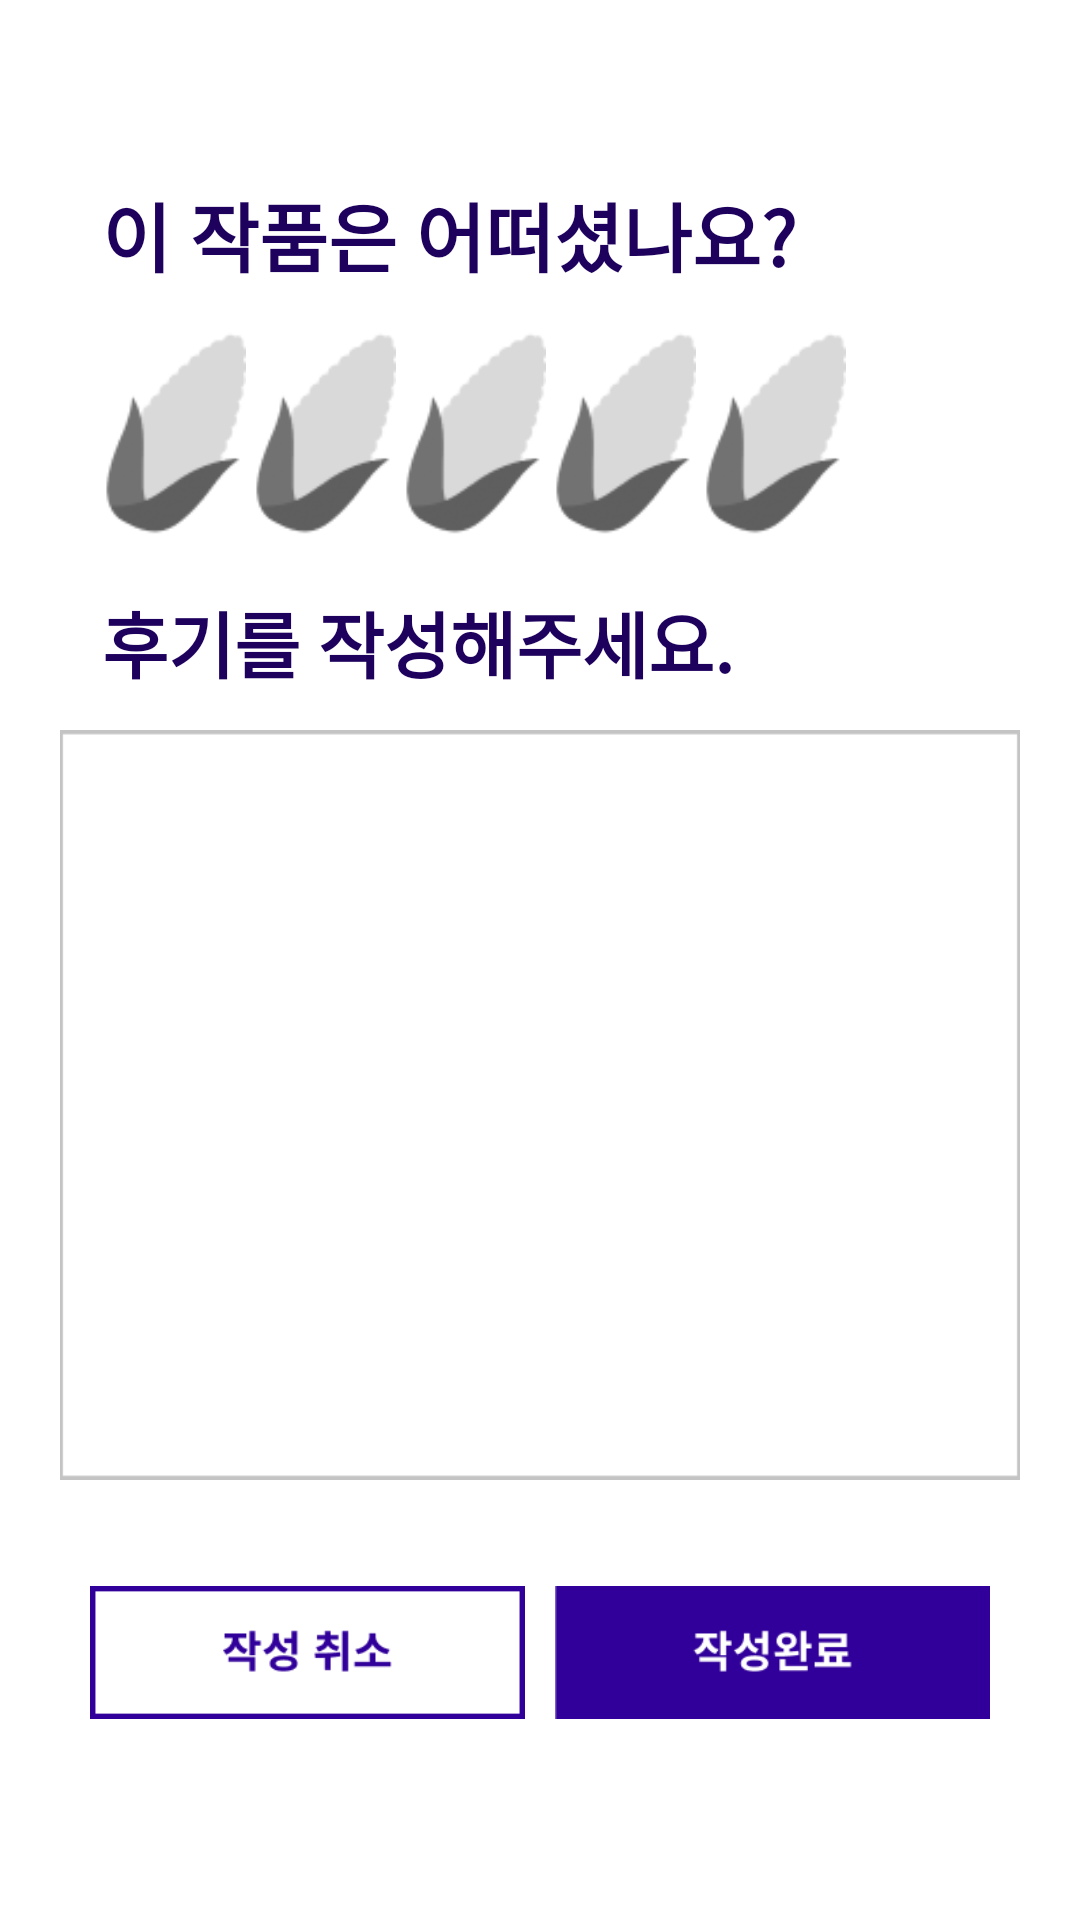

Icon click points for this 1080px×1920px phone screenshot, format (x,y):
comment corn: (176,434), (326,434), (476,434), (626,434), (776,434)
